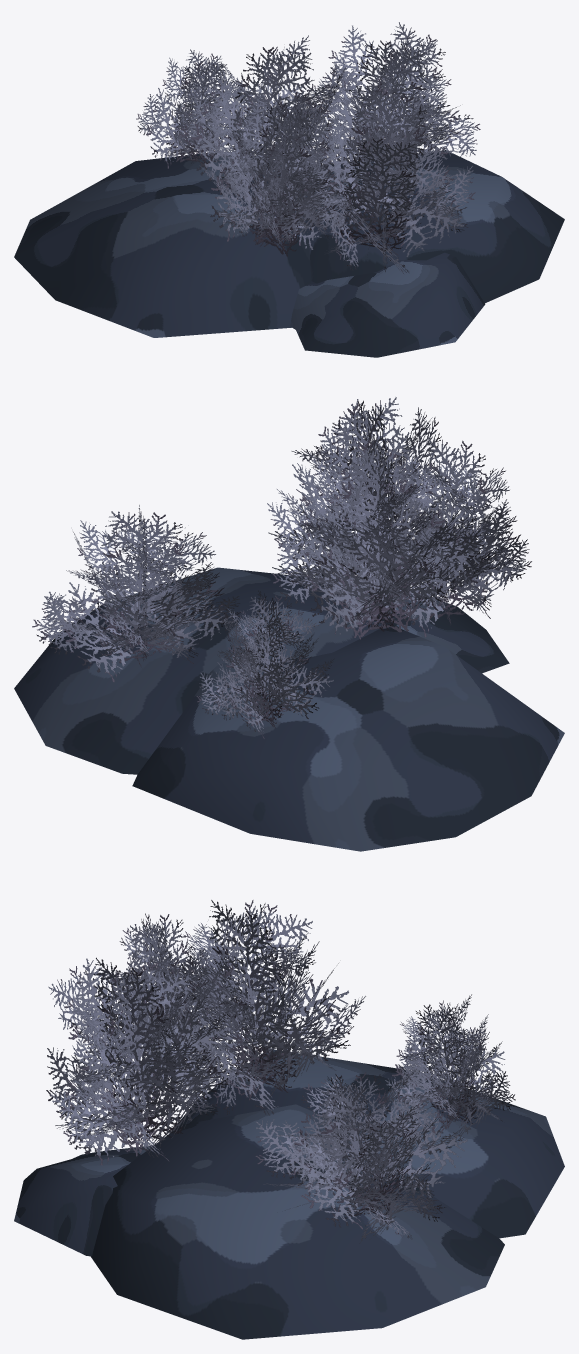
The model's file is Gorgonian Coral 3_preview_3DS_simplified.glb.
3 views of the same model, one above another, from view 1: azimuth 30°, elevation 25°; view 2: azimuth 150°, elevation 25°; view 3: azimuth 270°, elevation 25° (orthographic). The views are drawn at different scales.
Parts seen in each view (by area): view 1: Marine Park Empire model; view 2: Marine Park Empire model; view 3: Marine Park Empire model.
Part boxes in pixels (bbox=[...]): Marine Park Empire model: bbox=[14, 22, 564, 357]; Marine Park Empire model: bbox=[14, 397, 564, 851]; Marine Park Empire model: bbox=[14, 900, 564, 1339].
Bounding box in the file's own units: 114 × 58.77 × 102.
Materials: 2 (2 with a texture image).
